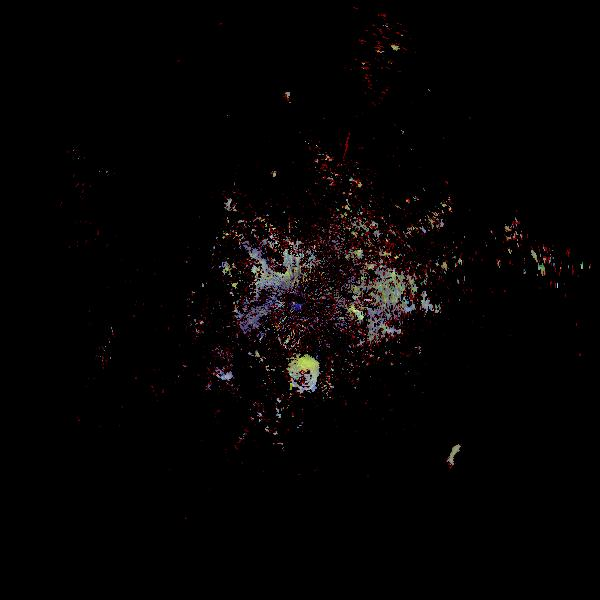roost: (280, 351, 328, 399), (446, 442, 482, 478)
